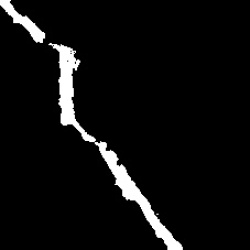crack: (94, 141, 183, 248), (48, 44, 93, 143), (1, 1, 44, 43)
